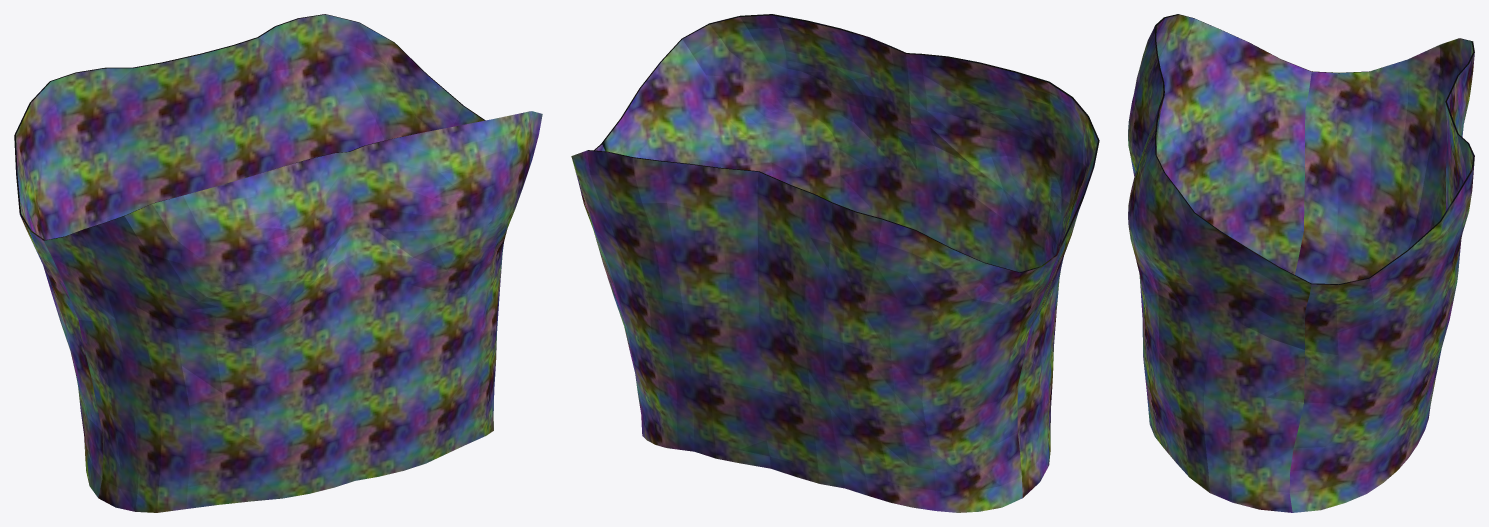
Rendered from mhw_skalldyrssuppe_tube_top_funky_colors.glb.
3 views of the same model, side by side, from view 1: azimuth 30°, elevation 25°; view 2: azimuth 150°, elevation 25°; view 3: azimuth 270°, elevation 25° (orthographic). The views are drawn at different scales.
Parts seen in each view (by area): view 1: mhw_skalldyrssuppe_tube_top_funky_colors; view 2: mhw_skalldyrssuppe_tube_top_funky_colors; view 3: mhw_skalldyrssuppe_tube_top_funky_colors.
Part boxes in pixels (<box>): mhw_skalldyrssuppe_tube_top_funky_colors: <box>14,14,542,512</box>; mhw_skalldyrssuppe_tube_top_funky_colors: <box>571,14,1099,512</box>; mhw_skalldyrssuppe_tube_top_funky_colors: <box>1128,14,1474,512</box>.
Bounding box in the file's own units: 0.3566 × 0.2658 × 0.2454.
1 material, 1 textured.
